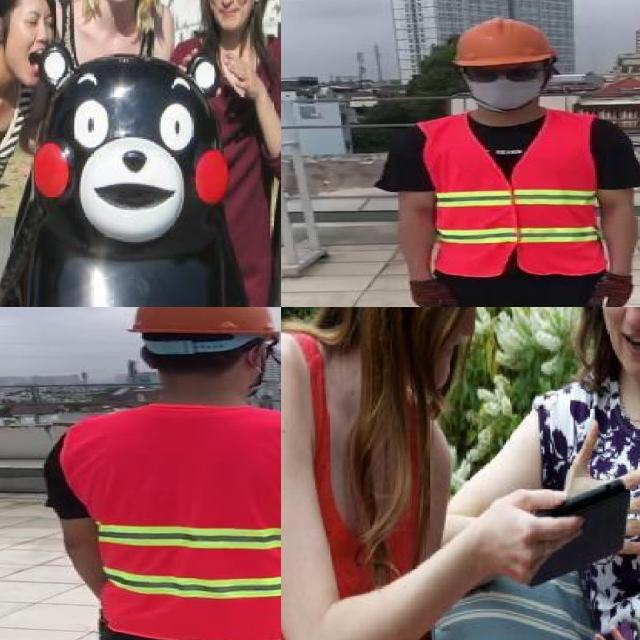No_Glasses: (15, 7, 59, 36)
face_mask: (466, 64, 544, 106)
face_nomask: (12, 4, 59, 74), (599, 307, 640, 358), (204, 0, 252, 26)
glasses: (463, 63, 539, 84)
hand_glove: (406, 278, 460, 307), (588, 276, 634, 307)
hand_noglove: (477, 479, 590, 592), (215, 43, 266, 98)
head_helmet: (454, 18, 557, 70), (122, 307, 281, 339)
person: (45, 307, 281, 640), (402, 19, 640, 307), (281, 307, 481, 640), (508, 307, 640, 640), (163, 0, 281, 307), (47, 0, 181, 90)
vest: (63, 406, 281, 640), (421, 113, 602, 275)
